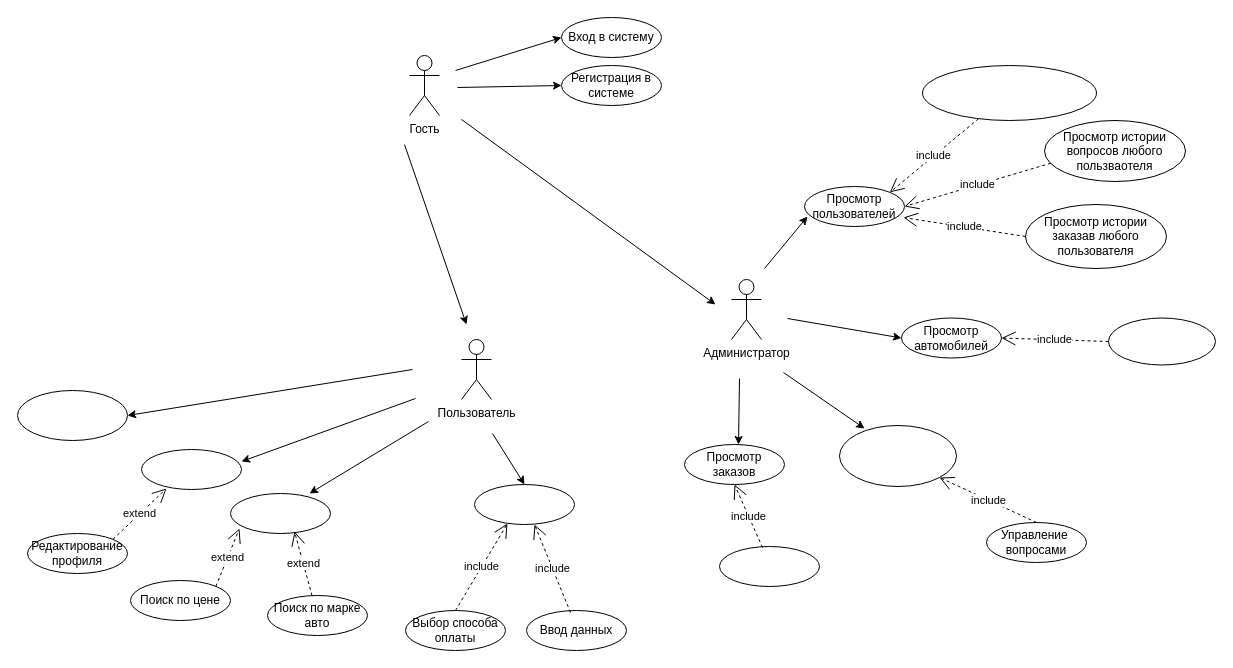
Image size: 1233x668. Some labels were removed from this diagram. The box of each missing label's shape, as (x1, y1, x2, y2) in pixels:
Оформление заказа: (474, 484, 574, 524)
Просмотр вопросов пользователей: (838, 424, 956, 486)
Просмотр истории заказов: (16, 390, 128, 440)
Просмотр каталога: (230, 492, 330, 534)
Просмотр профиля: (140, 448, 242, 490)
Удаление/восстановление пользователя: (922, 64, 1096, 120)
Управление автомобилями: (1108, 317, 1216, 365)
Управление заказами: (718, 546, 820, 586)
